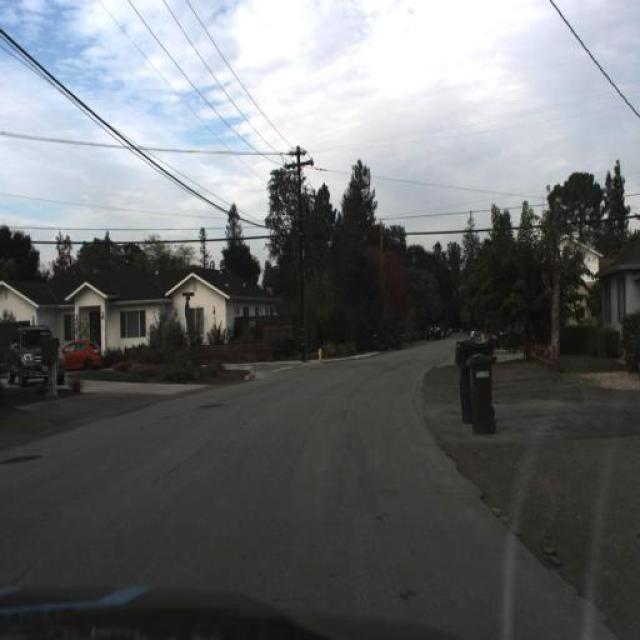car: (6, 322, 62, 392), (56, 328, 108, 382), (62, 335, 104, 367)
